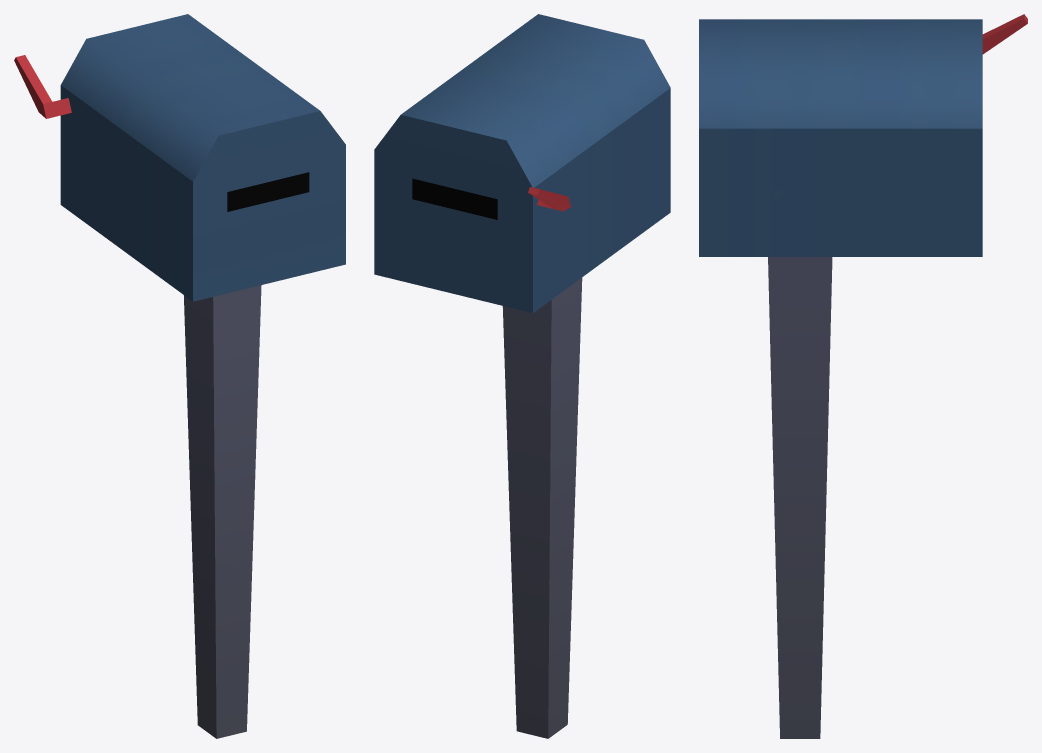
File: SM_MailBox.FBX
The picture shows the model from 3 angles, left to right: view 1: azimuth 30°, elevation 25°; view 2: azimuth 150°, elevation 25°; view 3: azimuth 270°, elevation 25°; orthographic projection. The views are drawn at different scales.
Parts seen in each view (by area): view 1: SM_MailBox; view 2: SM_MailBox; view 3: SM_MailBox.
Part boxes in pixels (<box>): SM_MailBox: <box>14,14,345,738</box>; SM_MailBox: <box>374,14,670,738</box>; SM_MailBox: <box>699,14,1027,738</box>.
Size of what is drawn, in the model's own units: 32.69 by 48.72 by 112.
